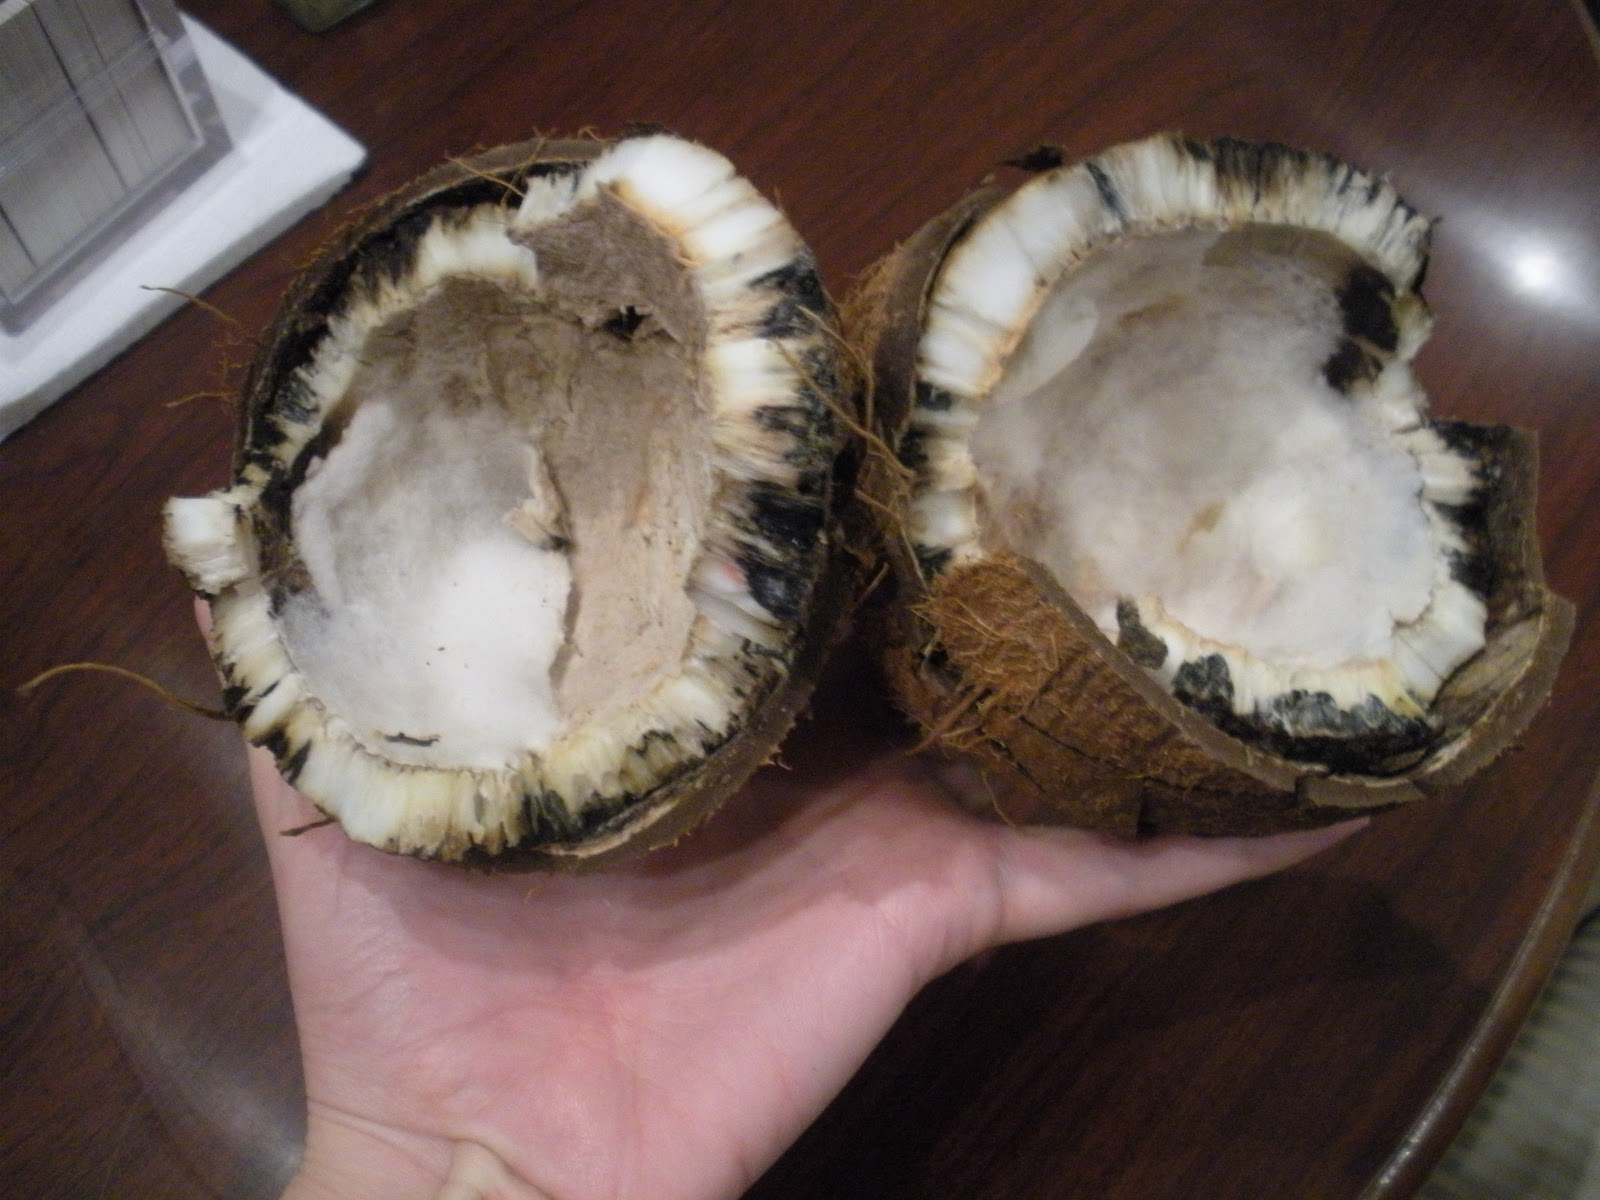damaged_coconut: (886, 145, 1547, 785), (239, 158, 814, 850)
